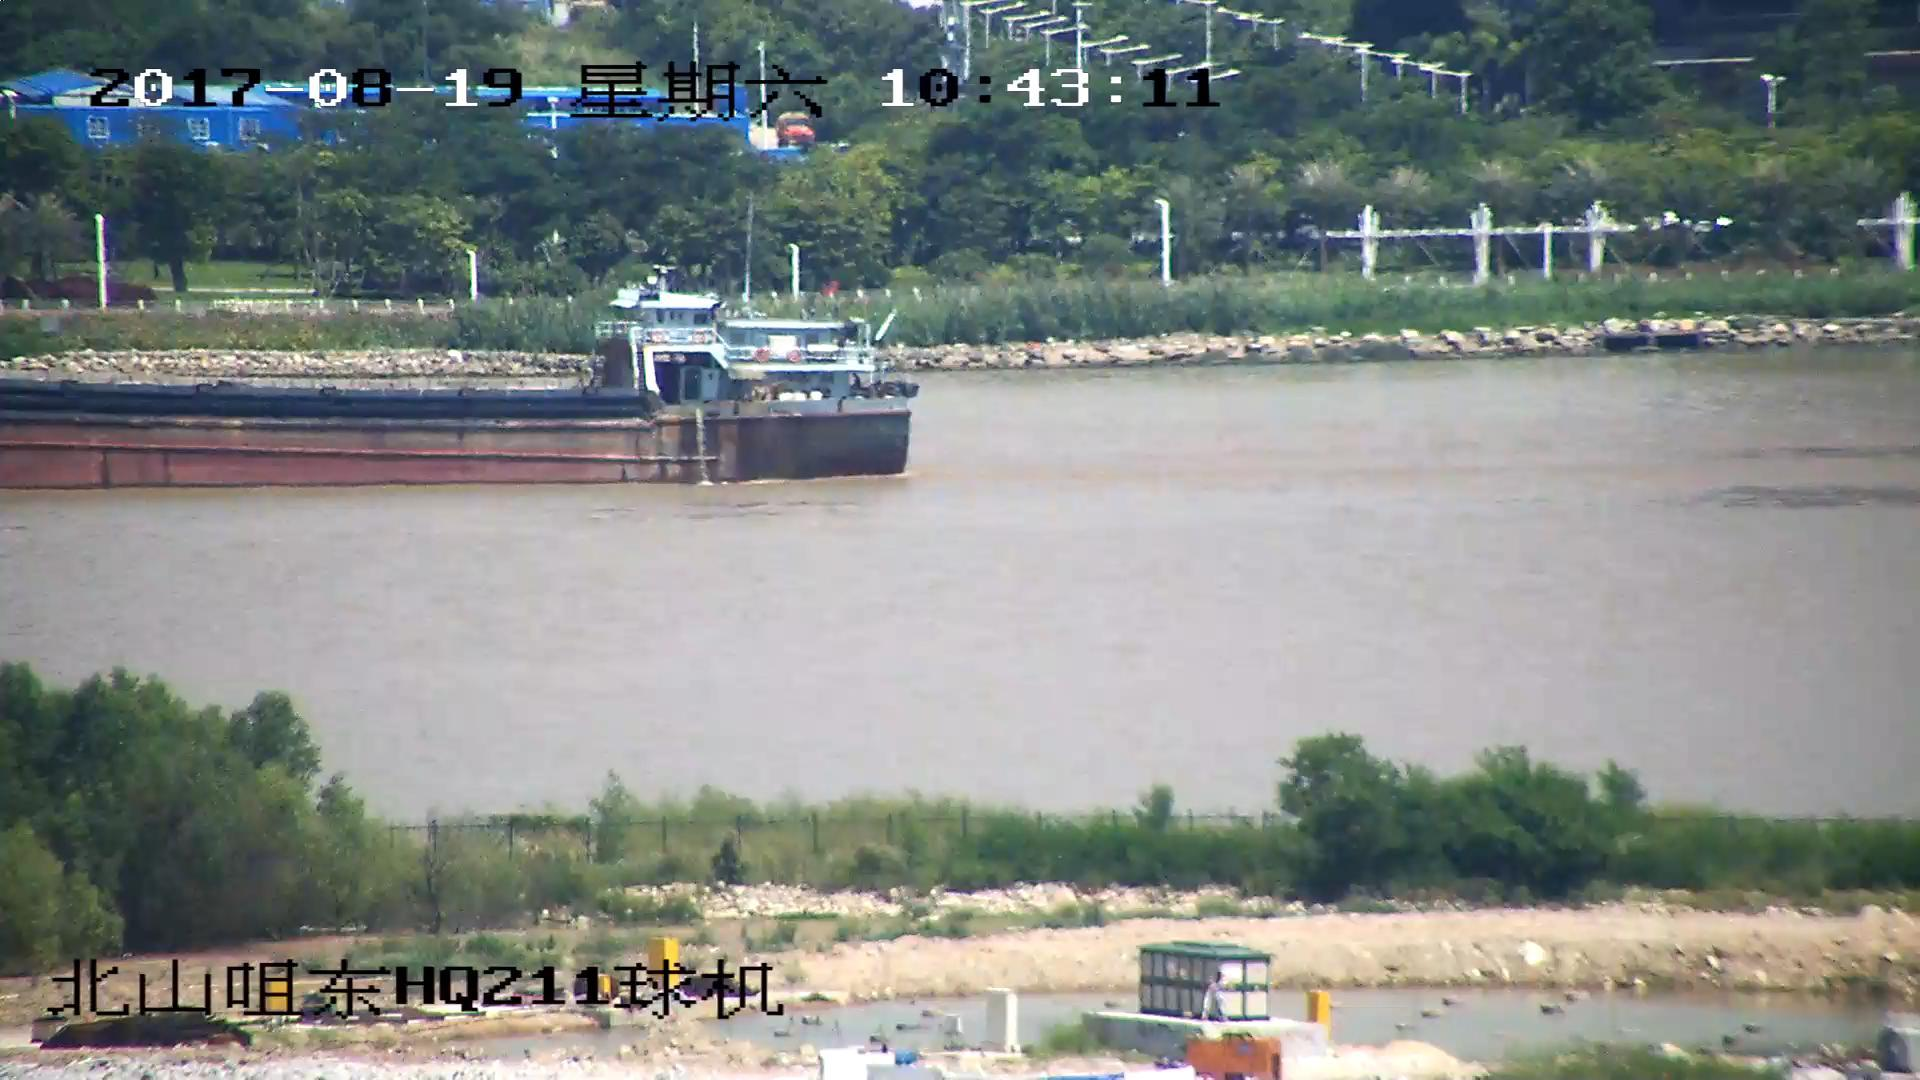Ship: (3, 262, 910, 484)
